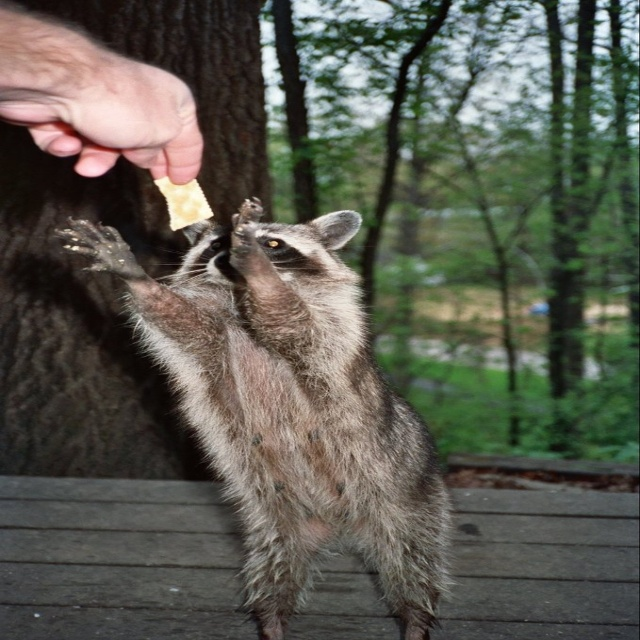Raccoon: (52, 198, 453, 640)
